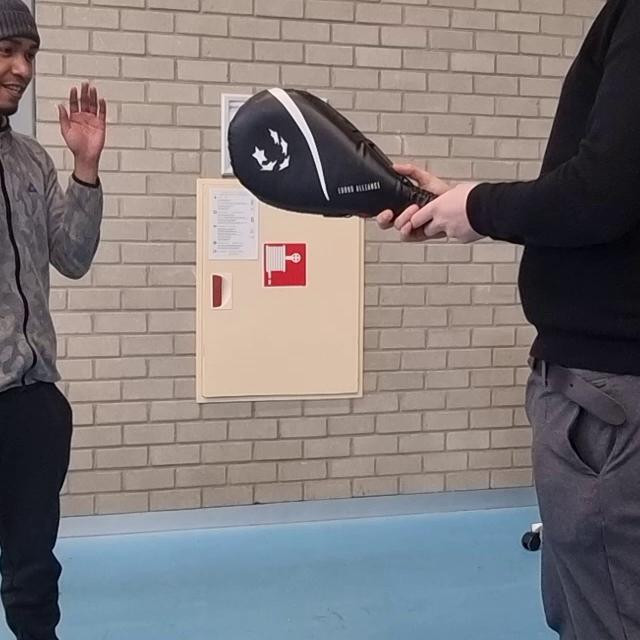paddle: (226, 87, 439, 217)
